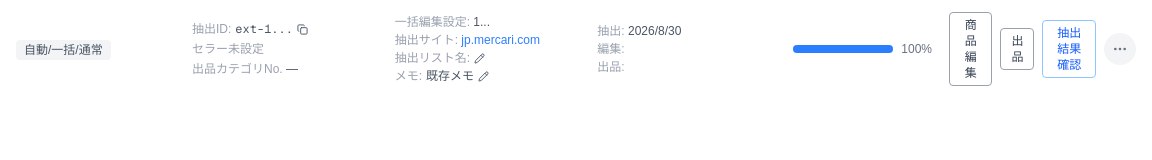
Test case: ExtractionRow: メモの編集 › 既存のメモをクリックして編集し、フォーカスを外すと保存される
Expected: the text "既存メモ" is shown, [426,68,474,84]
Click the button named "メモを編集".
click(484, 76)  # box [478,70,489,82]
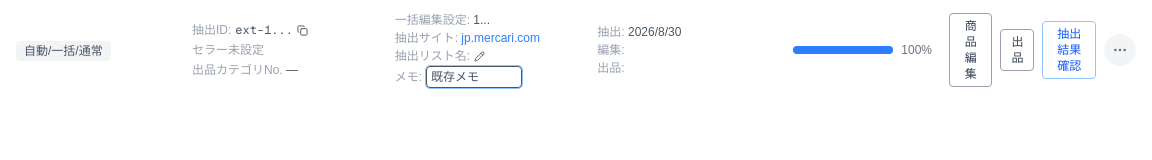
Replace the text in the field with "更新後" at x=474, y=77, box [426,66,522,88]
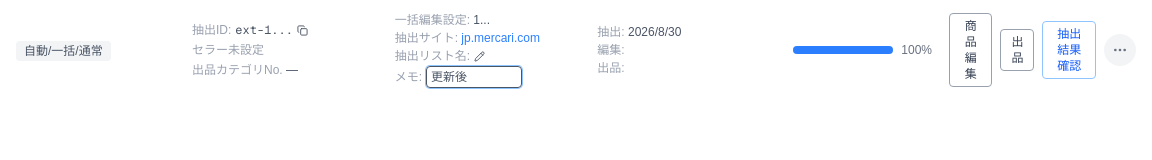
Press Tab
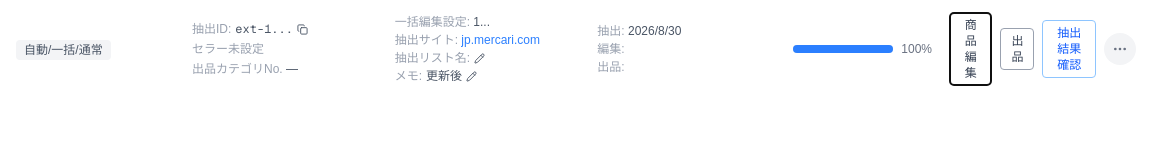
Result: the text "更新後" is shown at [426,68,462,84]
